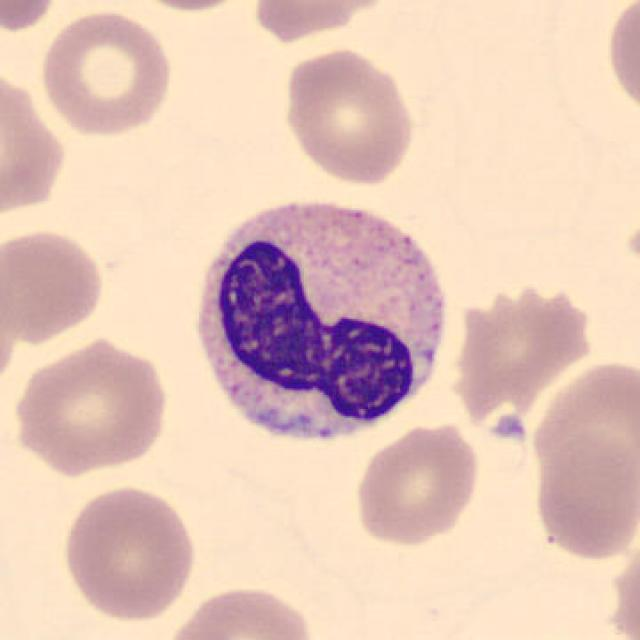Neutrophil: (183, 184, 459, 466)
Platelets: (487, 411, 530, 444)
RBC: (7, 333, 173, 478), (444, 277, 601, 428), (57, 481, 201, 624), (279, 44, 418, 189), (36, 5, 176, 140), (524, 354, 638, 512), (350, 420, 484, 548), (528, 425, 638, 564), (0, 223, 108, 345), (0, 61, 69, 227), (162, 580, 318, 640), (245, 0, 399, 42), (602, 0, 640, 125), (607, 538, 640, 640), (0, 250, 21, 400), (0, 0, 62, 35), (119, 0, 261, 14)
